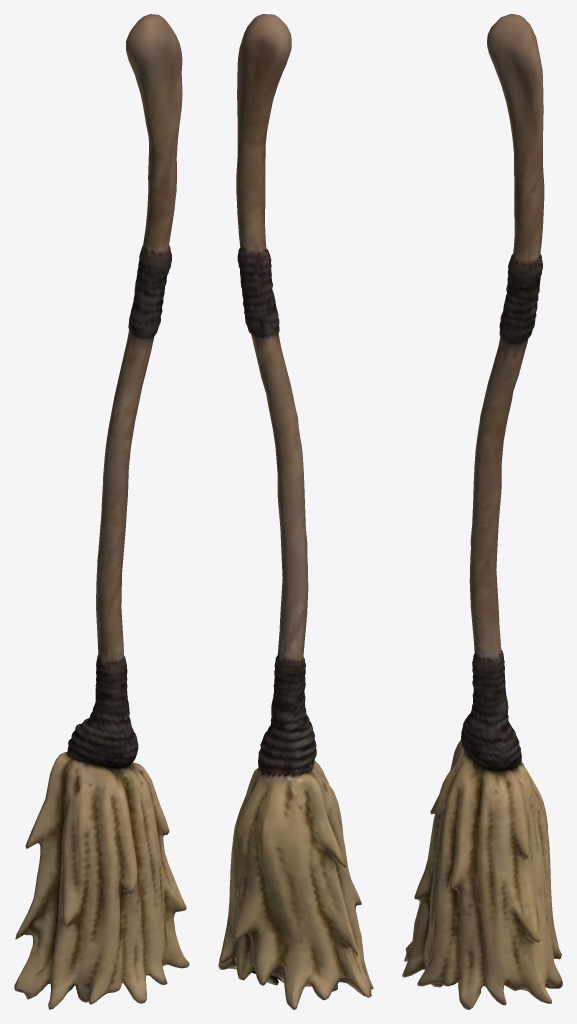
The model's file is MZ4250 - Animated Broom_2025.glb.
3 views of the same model, side by side, from view 1: azimuth 30°, elevation 25°; view 2: azimuth 150°, elevation 25°; view 3: azimuth 330°, elevation 25° (orthographic). The views are drawn at different scales.
Parts seen in each view (by area): view 1: Broom 1.001; view 2: Broom 1.001; view 3: Broom 1.001.
Part boxes in pixels (<box>): Broom 1.001: <box>14,14,189,1009</box>; Broom 1.001: <box>218,14,373,1009</box>; Broom 1.001: <box>402,14,562,1009</box>.
Size of the model in its own units: 18.26 by 106 by 13.29.
1 material, 1 textured.
